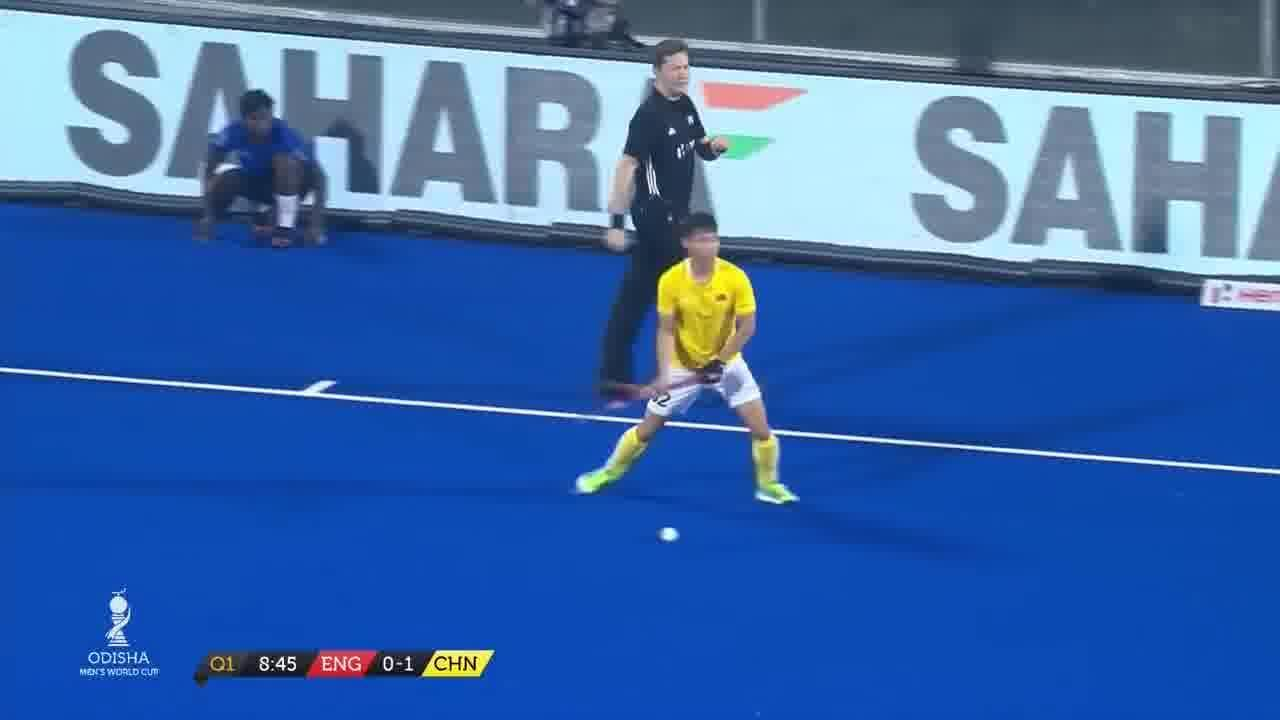ball: (654, 521, 684, 546)
